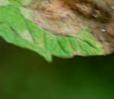Tomato leaf late blight: (0, 0, 114, 95)
